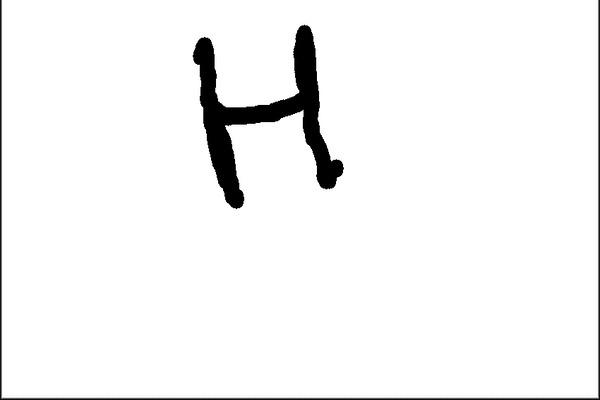H: (187, 22, 353, 211)
